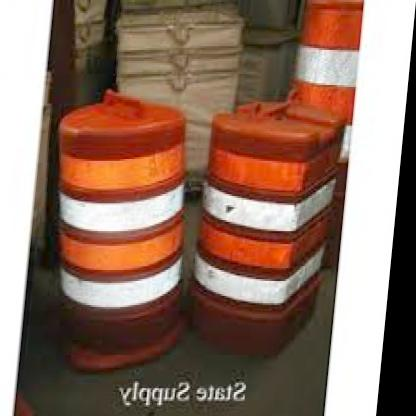obstacle: (54, 92, 200, 364), (187, 105, 349, 342)
